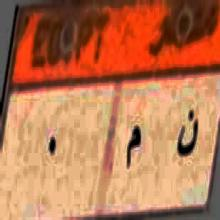0: (46, 128, 63, 168)
meem: (121, 117, 146, 171)
noon: (176, 109, 199, 171)
